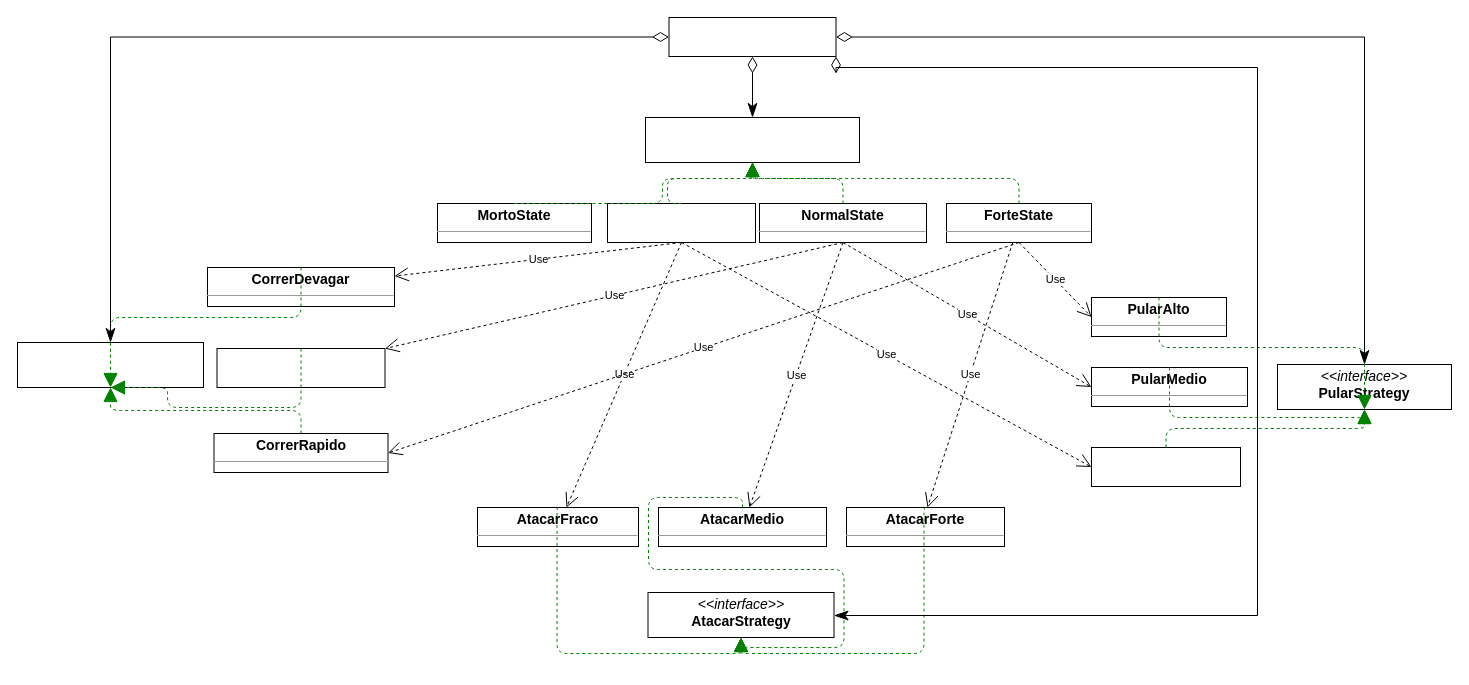
The diagram is 1469 pixels wide and 685 high, and some of its shapes have lost their labels. The centre of each missing label's shape, as x and y in pixels:
<<interface>> CorrerStrategy: the point at 110,365
<<interface>> PersonagemState: the point at 752,139
CorrerMedio: the point at 300,368
FracoState: the point at 681,222
Personagem: the point at 752,36
PularBaixo: the point at 1165,466
